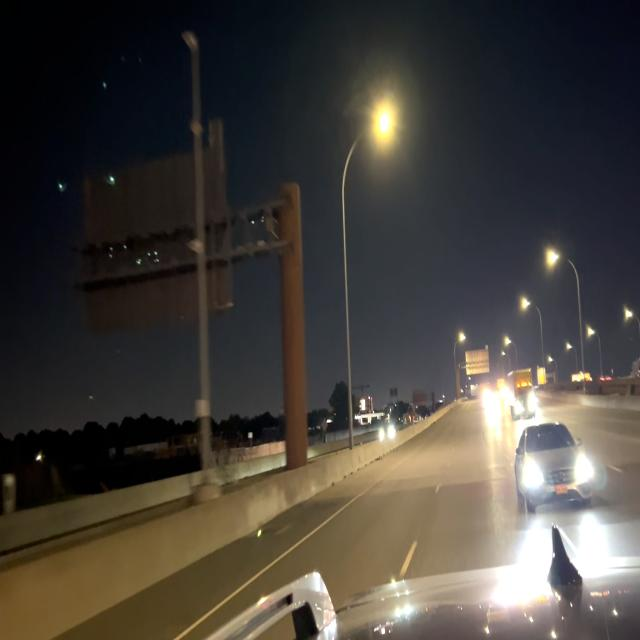back-of-sign: (80, 121, 232, 334), (464, 344, 491, 378)
